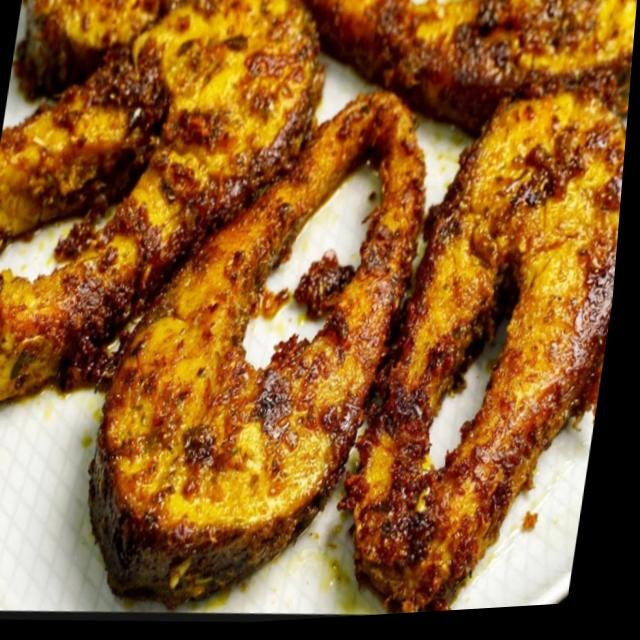FISH FRY: (0, 0, 637, 613)
